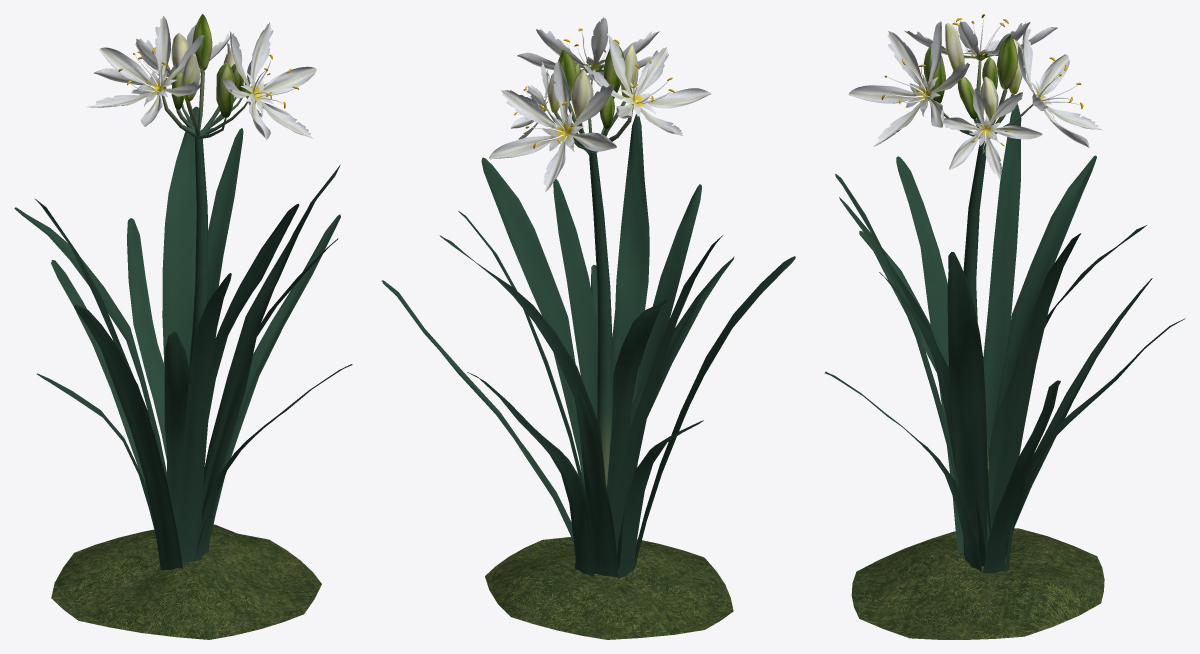
The model's file is GiglioStellatoV3.glb.
3 renders of one model, left to right at view 1: azimuth 30°, elevation 25°; view 2: azimuth 150°, elevation 25°; view 3: azimuth 270°, elevation 25°, orthographic. The views are drawn at different scales.
Visible parts, largest first — view 1: Foglie.008, Erba2, FioreGiglioBianco3.003, FioreGiglioBianco3.001, Giglio, Plane.055, FioreGiglioBianco3.002, GamboGiglio.003, GamboGiglio.002, GamboGiglio.005; view 2: Foglie.008, Erba2, FioreGiglioBianco3.002, Giglio, FioreGiglioBianco3.003, FioreGiglioBianco3.001, FioreGiglioBianco3.004, GamboGiglio.007, Plane.055; view 3: Foglie.008, Erba2, FioreGiglioBianco3.001, FioreGiglioBianco3.004, FioreGiglioBianco3.002, Giglio, FioreGiglioBianco3.003, GamboGiglio.002, GamboGiglio.005, GamboGiglio.003, GamboGiglio.004.
Part boxes in pixels (x1=…): Foglie.008: x1=14, y1=106, x2=352, y2=570; Erba2: x1=51, y1=524, x2=321, y2=639; FioreGiglioBianco3.003: x1=87, y1=16, x2=204, y2=126; FioreGiglioBianco3.001: x1=223, y1=22, x2=316, y2=139; Giglio: x1=189, y1=137, x2=208, y2=371; Plane.055: x1=162, y1=70, x2=248, y2=138; FioreGiglioBianco3.002: x1=93, y1=24, x2=233, y2=94; GamboGiglio.003: x1=216, y1=63, x2=234, y2=117; GamboGiglio.002: x1=192, y1=14, x2=212, y2=70; GamboGiglio.005: x1=181, y1=53, x2=200, y2=102; Foglie.008: x1=381, y1=114, x2=795, y2=578; Erba2: x1=485, y1=537, x2=733, y2=639; FioreGiglioBianco3.002: x1=489, y1=60, x2=616, y2=192; Giglio: x1=589, y1=152, x2=612, y2=488; FioreGiglioBianco3.003: x1=583, y1=35, x2=711, y2=136; FioreGiglioBianco3.001: x1=517, y1=17, x2=659, y2=80; FioreGiglioBianco3.004: x1=511, y1=61, x2=550, y2=139; GamboGiglio.007: x1=571, y1=70, x2=593, y2=118; Plane.055: x1=547, y1=78, x2=633, y2=156; Foglie.008: x1=824, y1=104, x2=1185, y2=573; Erba2: x1=851, y1=528, x2=1104, y2=639; FioreGiglioBianco3.001: x1=849, y1=21, x2=969, y2=146; FioreGiglioBianco3.004: x1=943, y1=88, x2=1042, y2=179; FioreGiglioBianco3.002: x1=1017, y1=22, x2=1102, y2=147; Giglio: x1=963, y1=141, x2=989, y2=473; FioreGiglioBianco3.003: x1=904, y1=17, x2=1057, y2=60; GamboGiglio.002: x1=997, y1=34, x2=1017, y2=89; GamboGiglio.005: x1=945, y1=23, x2=964, y2=70; GamboGiglio.003: x1=923, y1=45, x2=945, y2=103; GamboGiglio.004: x1=980, y1=76, x2=998, y2=120.
Bounding box in the file's own units: 0.6201 × 0.9789 × 0.5476.
Materials: 6 (5 with a texture image).
